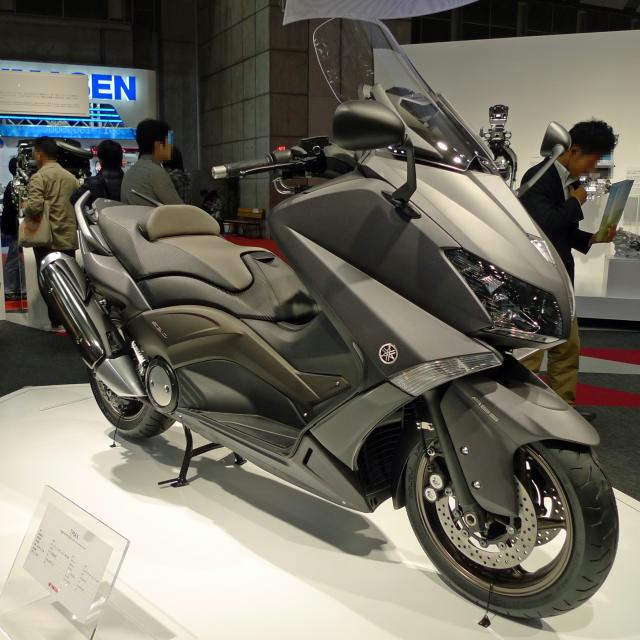Bike: (40, 16, 618, 619), (520, 124, 570, 193)
